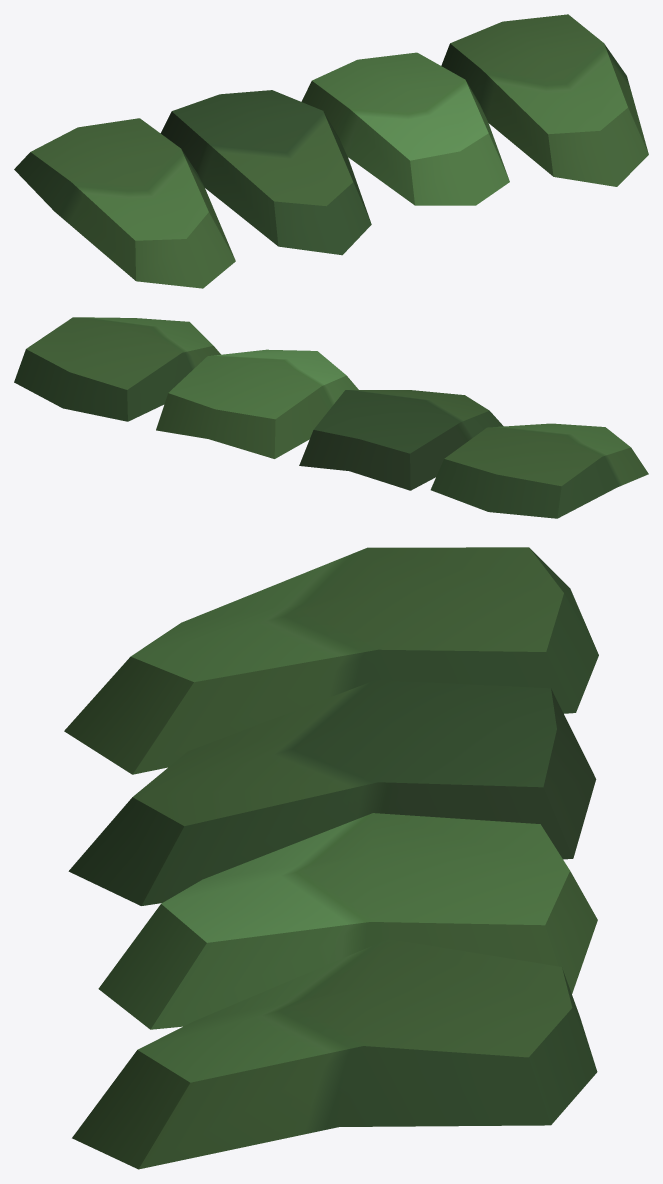
Rendered from elven_SM_Bld_Roof_Tiles_Line_Half_01.gltf.
The picture shows the model from 3 angles, top to bottom: view 1: azimuth 30°, elevation 25°; view 2: azimuth 150°, elevation 25°; view 3: azimuth 270°, elevation 25°; orthographic projection. The views are drawn at different scales.
Visible parts, largest first — view 1: SM_Bld_Roof_Tiles_Line_Half_01; view 2: SM_Bld_Roof_Tiles_Line_Half_01; view 3: SM_Bld_Roof_Tiles_Line_Half_01.
Boxes of the visible parts, x1=… form: SM_Bld_Roof_Tiles_Line_Half_01: x1=14, y1=14, x2=648, y2=288; SM_Bld_Roof_Tiles_Line_Half_01: x1=14, y1=317, x2=648, y2=518; SM_Bld_Roof_Tiles_Line_Half_01: x1=64, y1=547, x2=598, y2=1169.
Size of the model in its own units: 1.27 by 0.1678 by 0.5235.
1 material, 1 textured.
